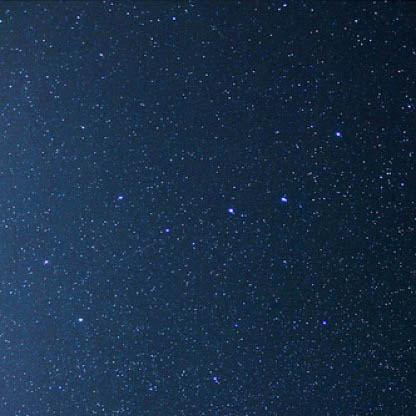Ursa Major: (331, 123, 354, 150), (268, 191, 297, 212), (35, 249, 56, 275), (72, 310, 93, 333), (156, 220, 174, 239), (222, 201, 240, 220), (112, 188, 127, 209)
